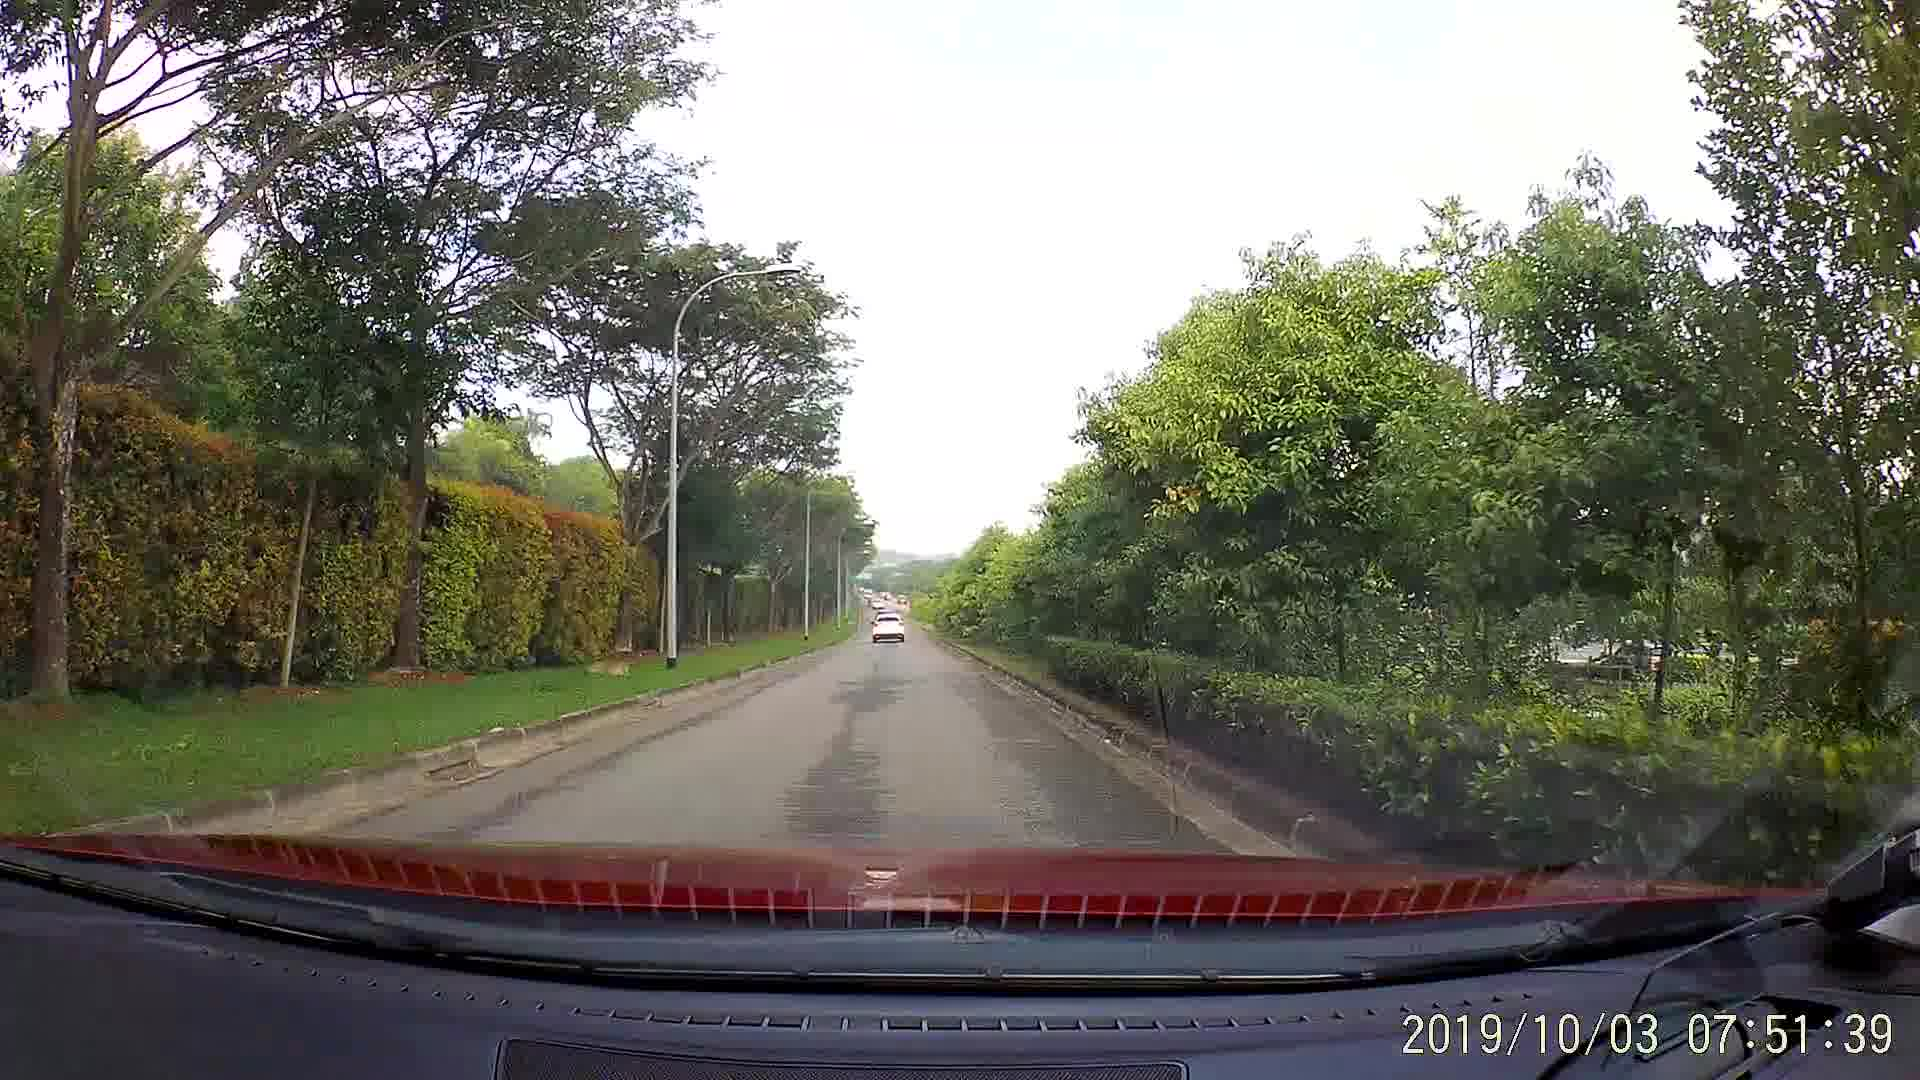car: (868, 613, 909, 642)
